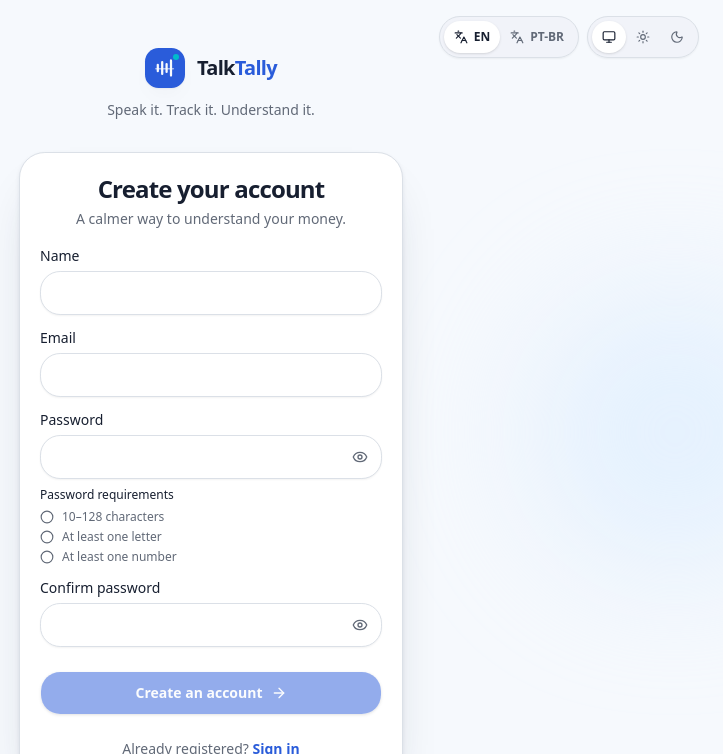
Test: RegisterPage › shows a safe backend validation error
Step 1. Type "Carlos" into the field labelled "Name" → (211, 293), box [40, 271, 382, 315]
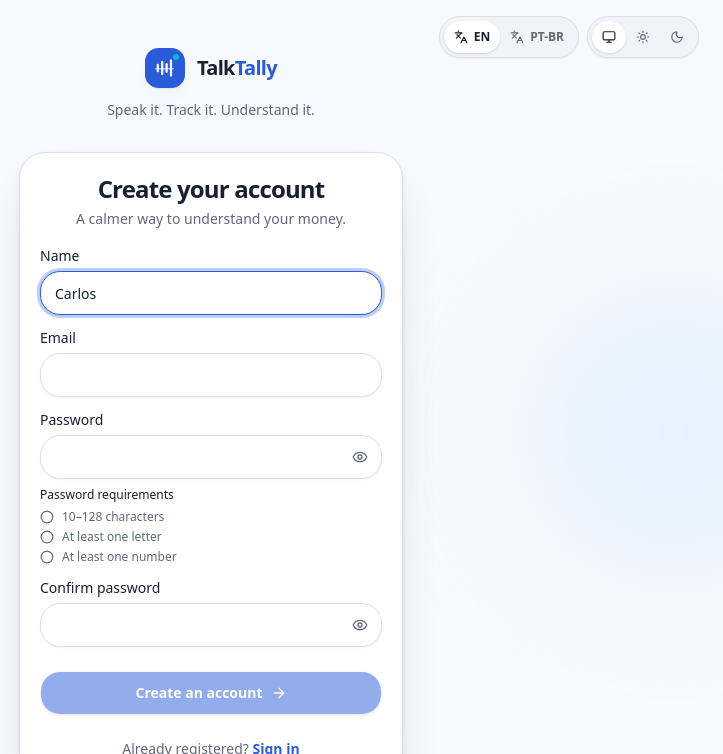
Step 2. Type "carlos@example.com" into the field labelled "Email" → (211, 375), box [40, 353, 382, 397]
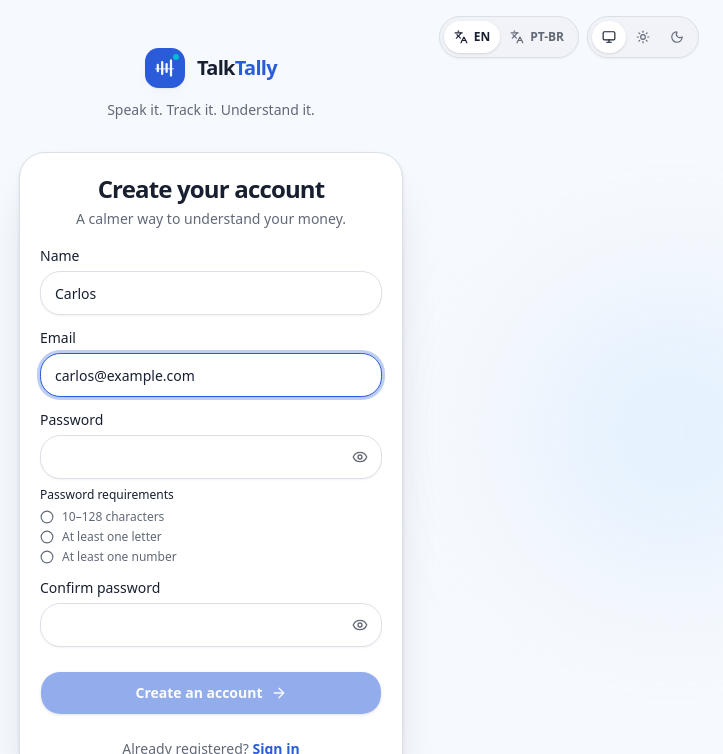
Step 3. Type "securepass123" into the password field labelled "Password" → (211, 457), box [40, 435, 382, 479]
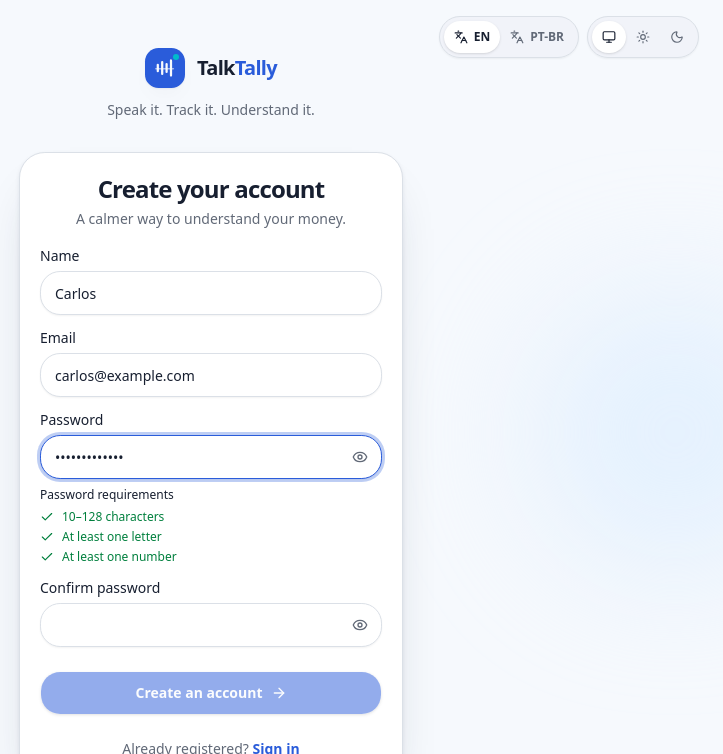
Step 4. Type "securepass123" into the password field labelled "Confirm password" → (211, 625), box [40, 603, 382, 647]
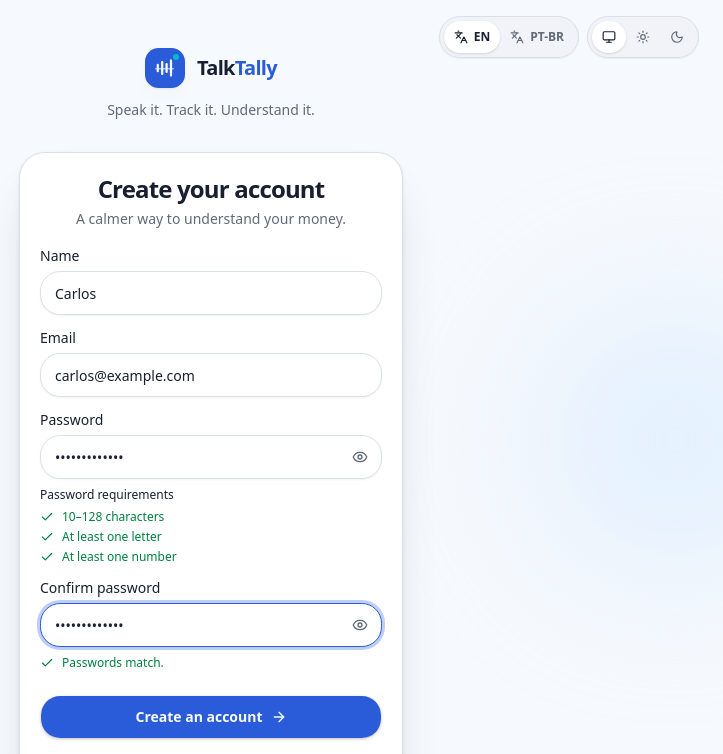
Step 5. Click the button "Create an account" → (211, 717), box [40, 695, 382, 739]
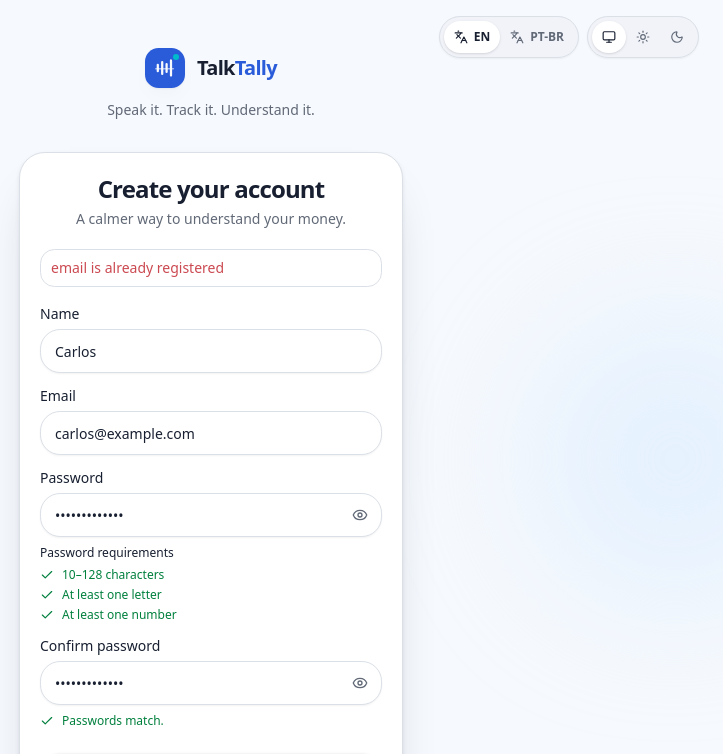
Result: the text "email is already registered" is shown at [51, 258, 224, 277]
